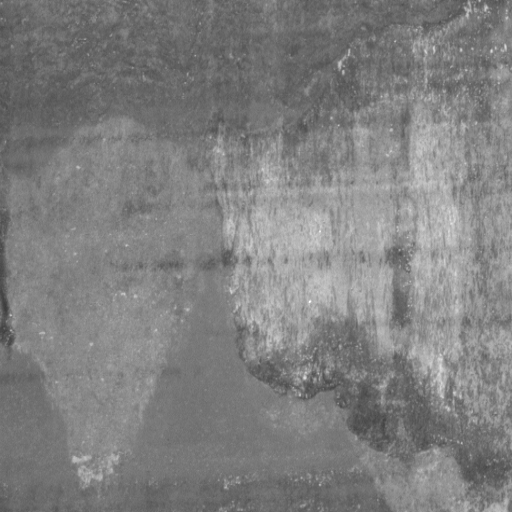qiaopi: (212, 1, 510, 512)
